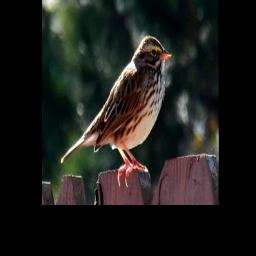Sparrow: (61, 32, 174, 185)
